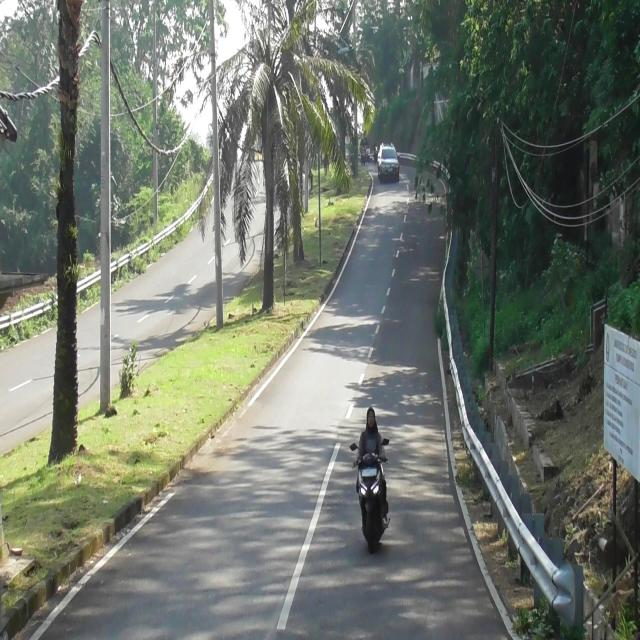motorcycle: (350, 442, 392, 545)
person: (354, 412, 388, 472)
rider_region: (351, 406, 393, 552)
